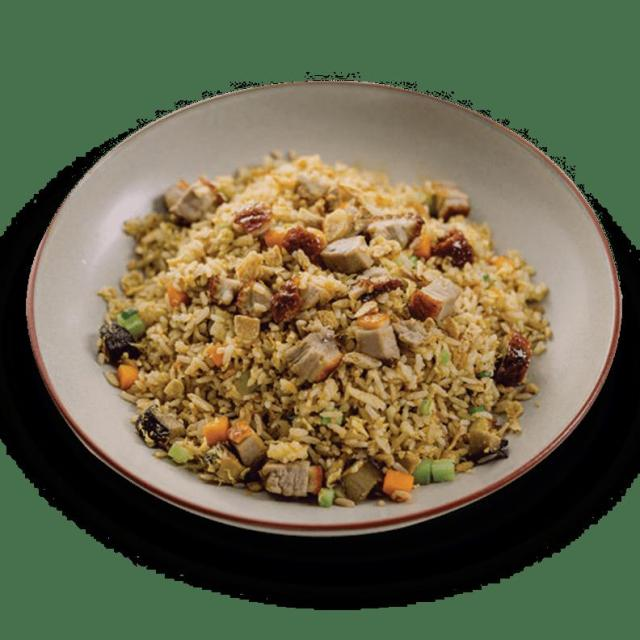Nasi Goreng: (95, 149, 552, 508)
